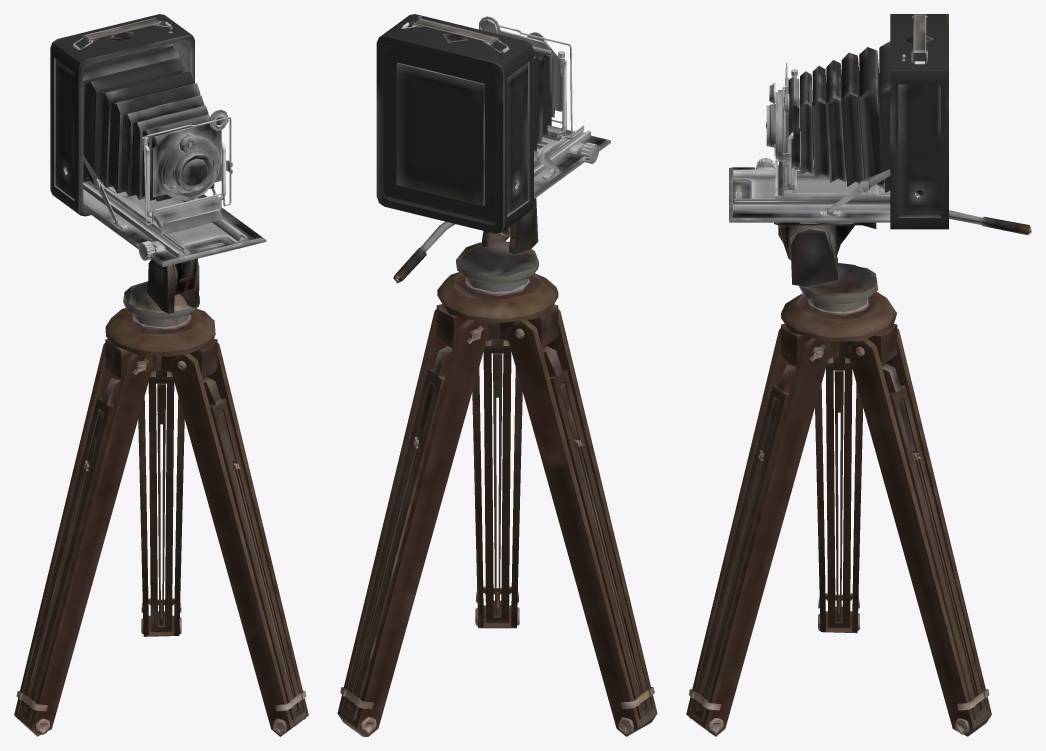
Rendered from camera.glb.
3 views of the same model, side by side, from view 1: azimuth 30°, elevation 25°; view 2: azimuth 150°, elevation 25°; view 3: azimuth 270°, elevation 25° (orthographic). The views are drawn at different scales.
Parts seen in each view (by area): view 1: tripod, camera; view 2: tripod, camera; view 3: tripod, camera.
Part boxes in pixels (left/top/right/bottom): tripod: left=14, top=258, right=308, bottom=736; camera: left=50, top=14, right=266, bottom=266; tripod: left=337, top=198, right=657, bottom=736; camera: left=376, top=14, right=610, bottom=233; tripod: left=686, top=210, right=1031, bottom=736; camera: left=729, top=14, right=948, bottom=229.
Bounding box in the file's own units: 2.6 × 7.21 × 3.39.
2 materials, 2 textured.
